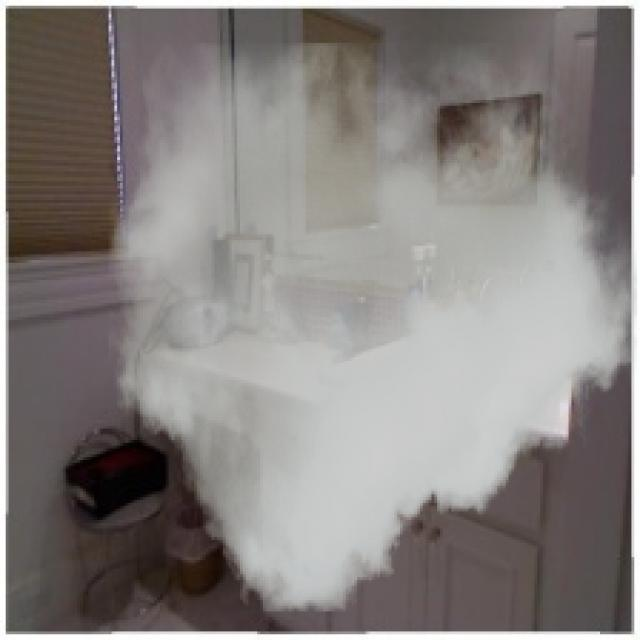smoke: (109, 43, 637, 611)
